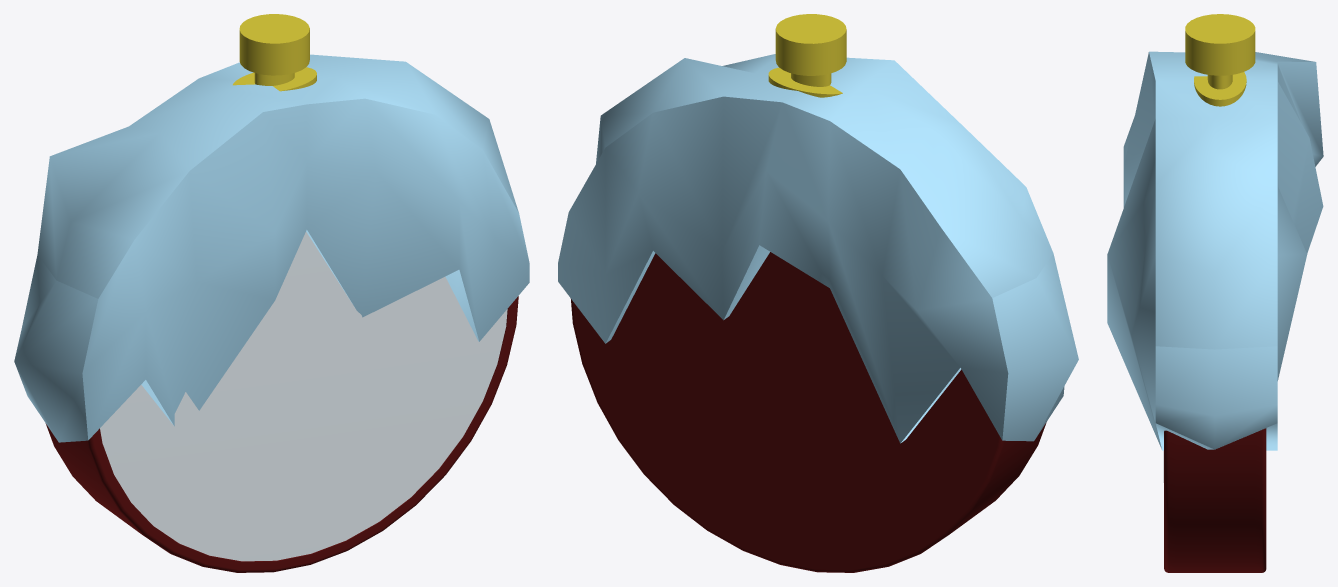
File: Item_stoptime.fbx
3 views of the same model, side by side, from view 1: azimuth 30°, elevation 25°; view 2: azimuth 150°, elevation 25°; view 3: azimuth 270°, elevation 25° (orthographic).
Parts seen in each view (by area): view 1: pCube2, biangai, biaopan, ding; view 2: pCube2, biaopan, ding; view 3: pCube2, biaopan, ding.
Part boxes in pixels (x1=…): pCube2: x1=14, y1=54, x2=529, y2=442; biangai: x1=100, y1=232, x2=507, y2=561; biaopan: x1=45, y1=296, x2=518, y2=572; ding: x1=233, y1=14, x2=316, y2=91; pCube2: x1=558, y1=54, x2=1078, y2=443; biaopan: x1=570, y1=252, x2=1046, y2=572; ding: x1=768, y1=14, x2=846, y2=97; pCube2: x1=1107, y1=51, x2=1323, y2=450; biaopan: x1=1164, y1=428, x2=1266, y2=572; ding: x1=1185, y1=14, x2=1255, y2=106.
Size of the model in its own units: 233 by 227 by 85.44.
